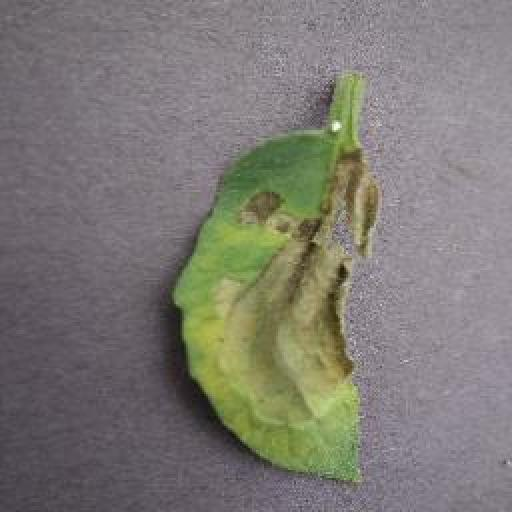Late Blight: (168, 125, 384, 484)
